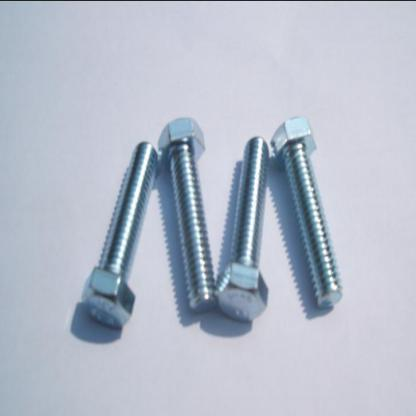FOD: (81, 138, 159, 331), (270, 113, 344, 311), (156, 116, 218, 318), (215, 134, 270, 321)
